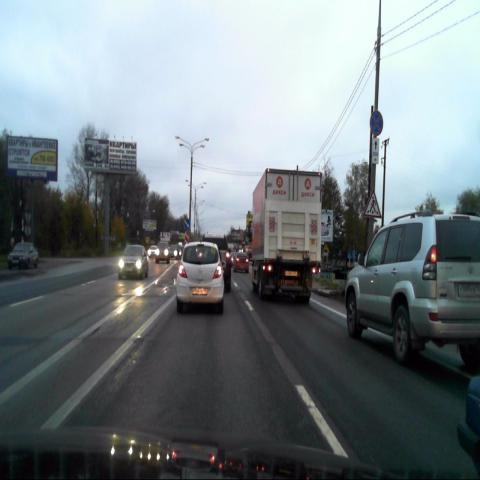1_22: (364, 188, 381, 218)
3_27: (370, 110, 384, 136)
4_2_1: (184, 218, 190, 230)
8_2_2: (372, 137, 378, 164)
